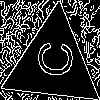C: (28, 38, 74, 80)
